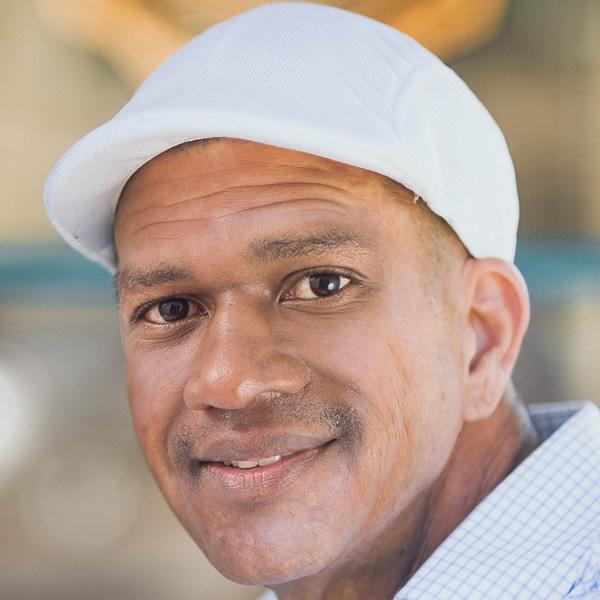Eyes: (120, 282, 223, 345), (270, 256, 372, 315)
